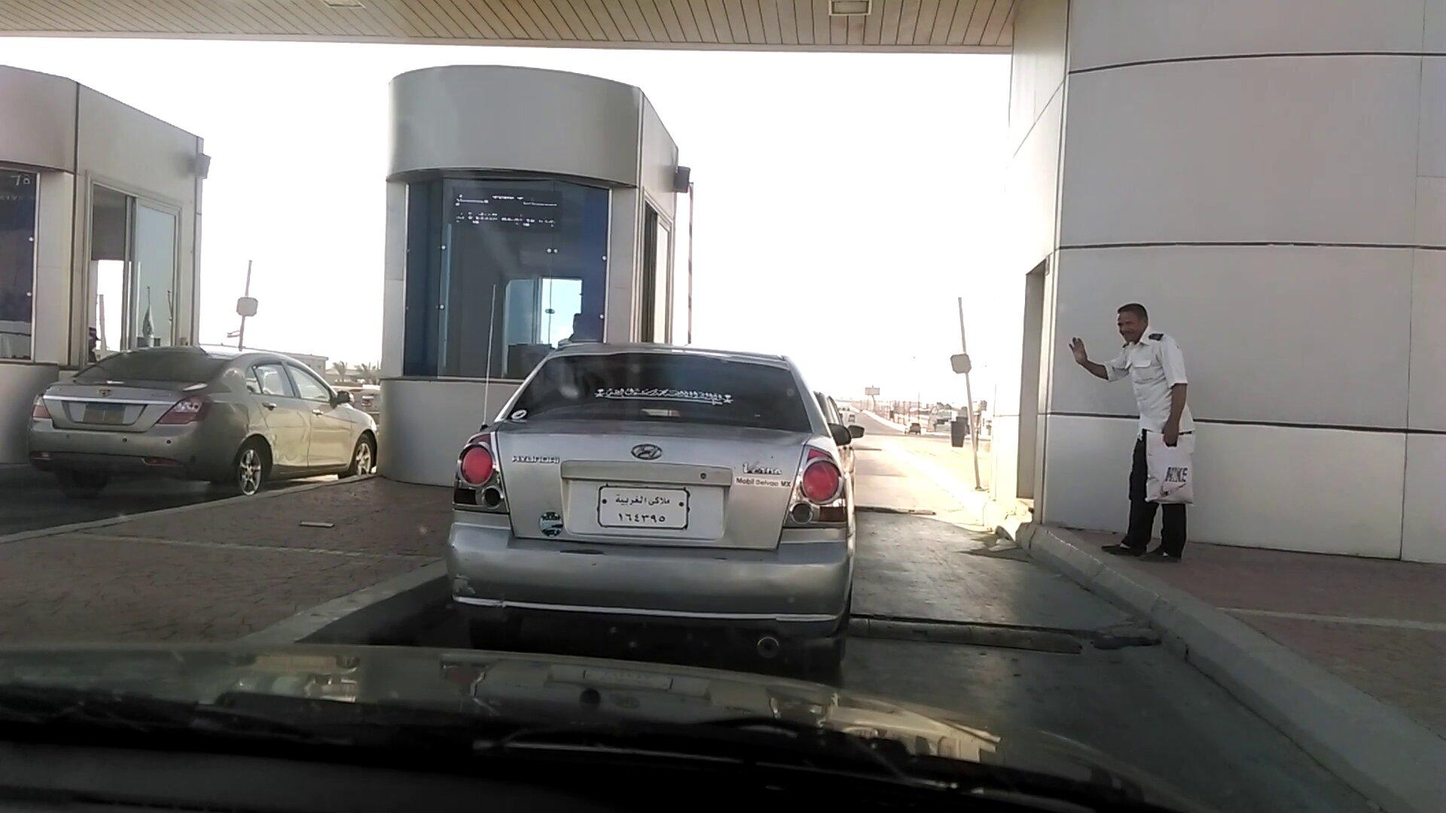Bump: (849, 606, 1111, 651)
